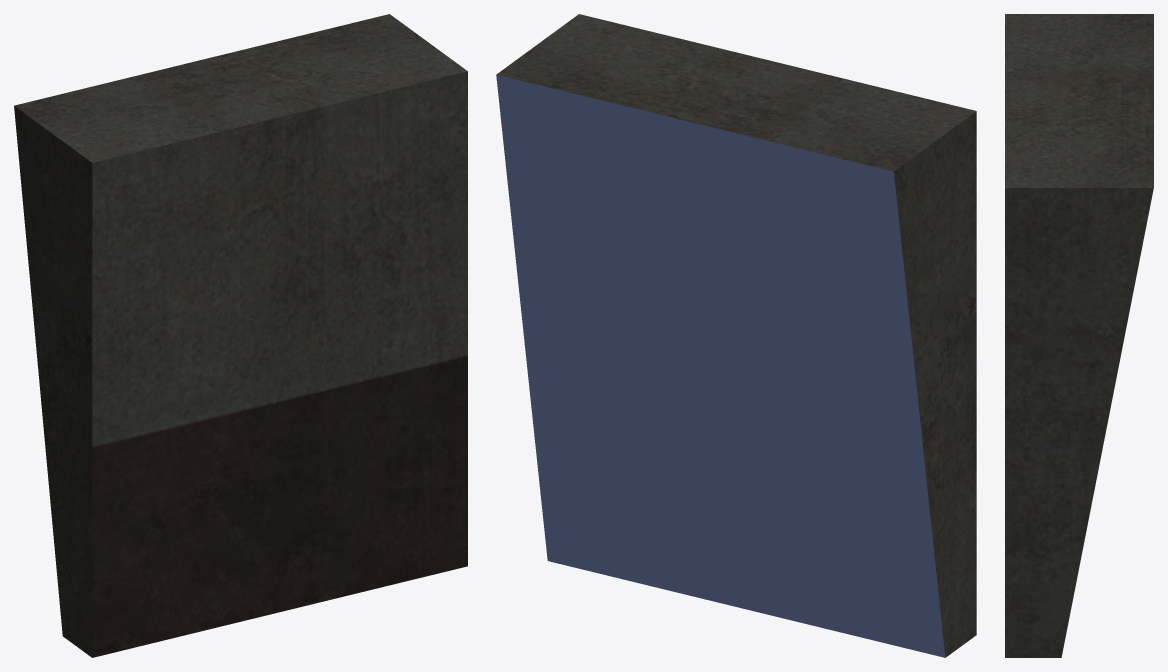
File: LeftDoor.glb
3 views of the same model, side by side, from view 1: azimuth 30°, elevation 25°; view 2: azimuth 150°, elevation 25°; view 3: azimuth 270°, elevation 25° (orthographic). The views are drawn at different scales.
Parts seen in each view (by area): view 1: DoorLeft; view 2: DoorLeft; view 3: DoorLeft.
Boxes of the visible parts, x1,y1,x2,y2 form: DoorLeft: [14, 14, 467, 657]; DoorLeft: [496, 14, 976, 657]; DoorLeft: [1005, 14, 1153, 657].
Bounding box in the file's own units: 3.86 × 4.85 × 1.39.
2 materials, 1 textured.
